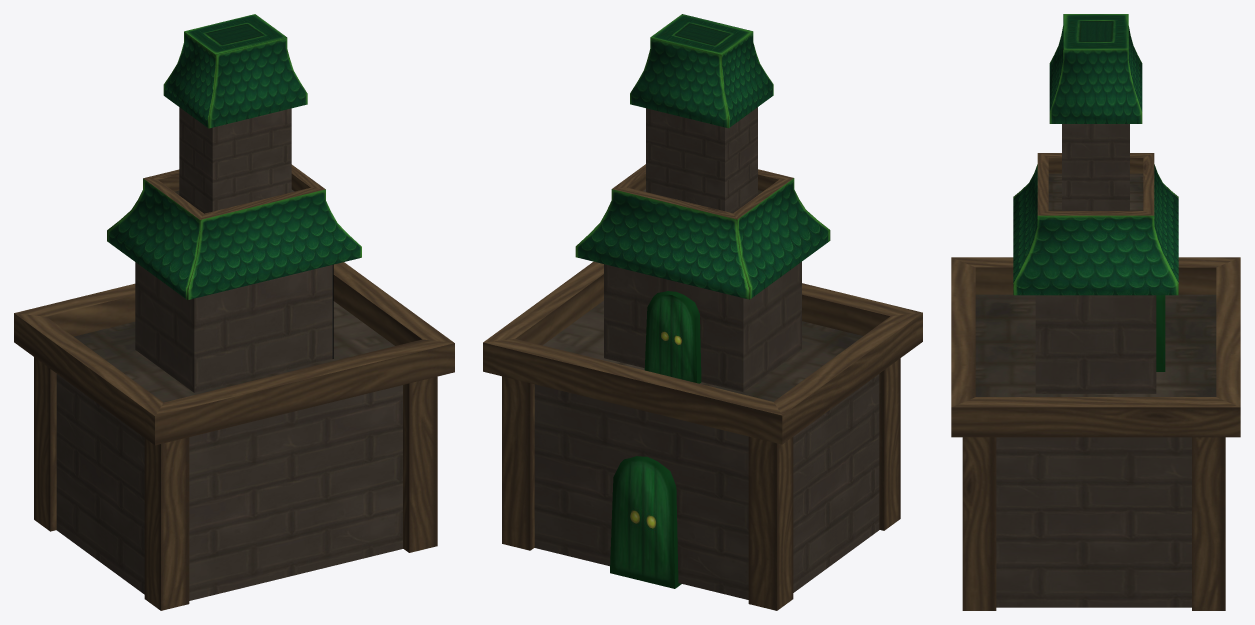
Rendered from stuntower_upgrade1.fbx.
The picture shows the model from 3 angles, left to right: view 1: azimuth 30°, elevation 25°; view 2: azimuth 150°, elevation 25°; view 3: azimuth 270°, elevation 25°; orthographic projection. The views are drawn at different scales.
Parts seen in each view (by area): view 1: basis, upgrade1; view 2: basis, upgrade1; view 3: basis, upgrade1.
Part boxes in pixels (box(x1,y1,x2,y2)): basis: box(14, 164, 454, 610); upgrade1: box(163, 14, 307, 213); basis: box(483, 164, 922, 610); upgrade1: box(630, 14, 773, 213); basis: box(951, 153, 1240, 610); upgrade1: box(1049, 14, 1142, 210).
Size of the model in its own units: 430 by 687 by 350.
Materials: 1 (1 with a texture image).
